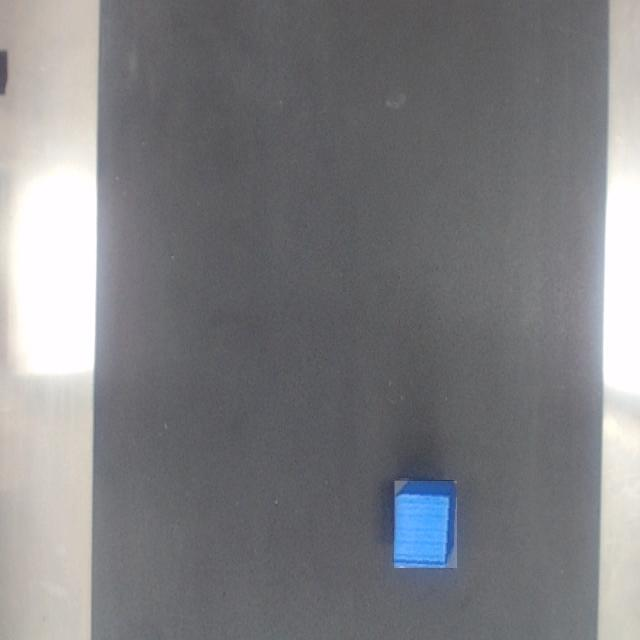Azul: (394, 481, 457, 568)
